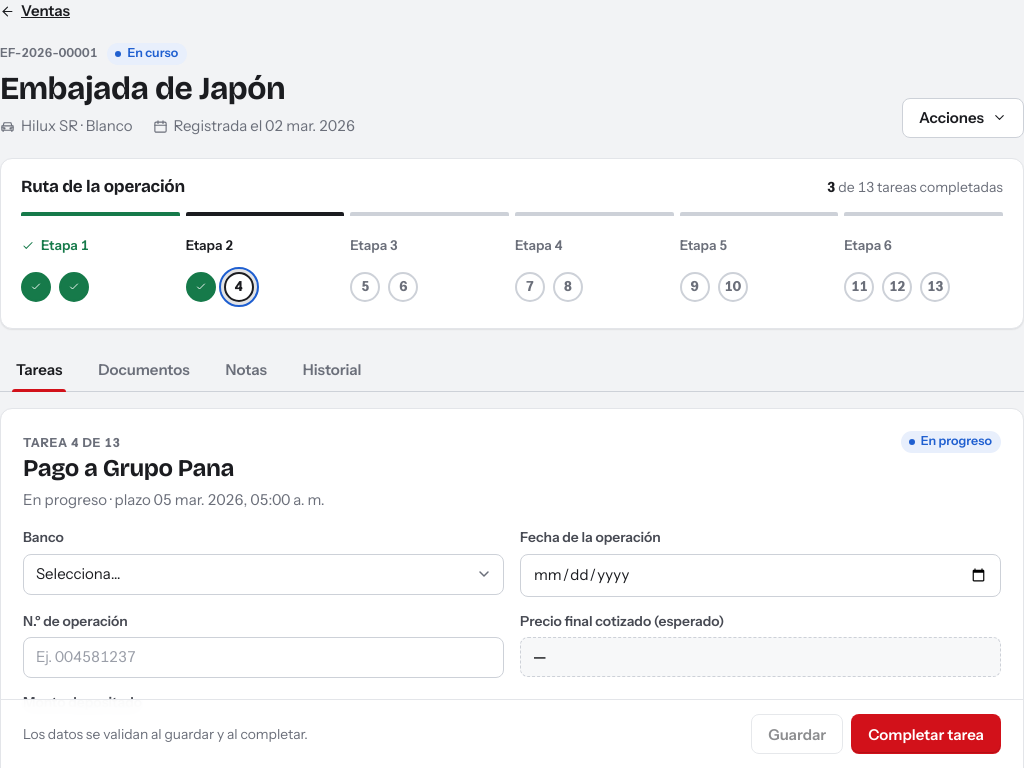
Scenario: the sale page › moves between tasks from the route, keeping the choice in the address
This screenshot has width=1024, height=768.
Expected: the heading "Pago a Grupo Pana" is shown, [23,454,234,482]
Click the button named "Tarea 2:". click: click(74, 287)
box: [59,272,89,302]
(page scrolled)
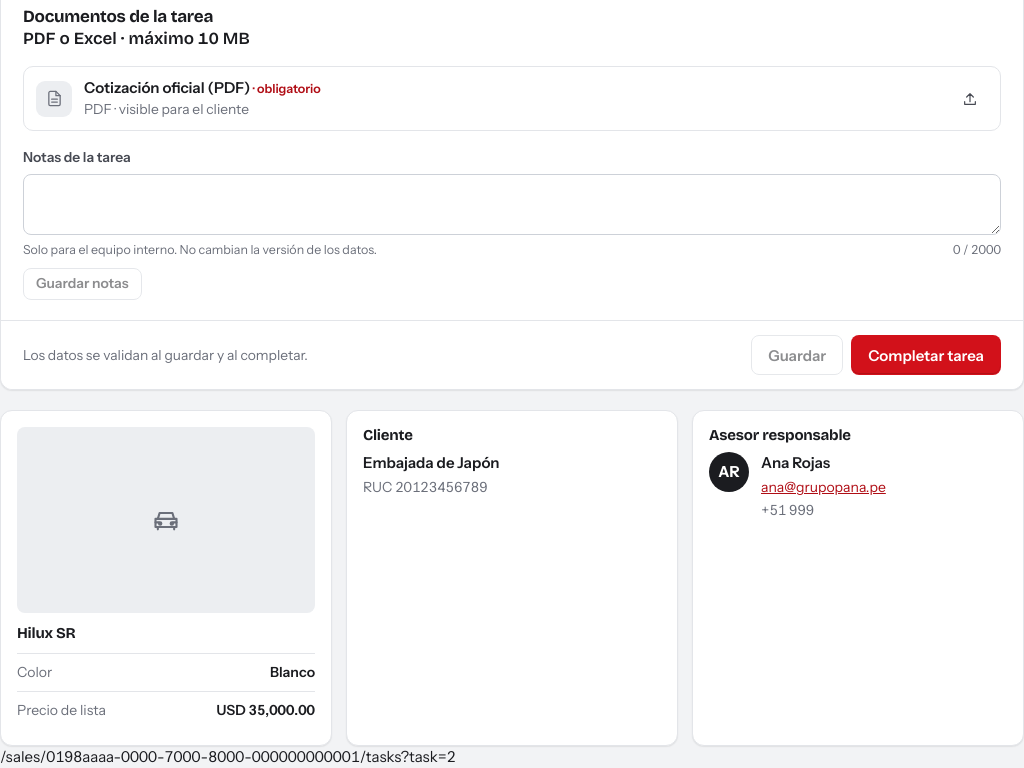
Result: the text with test id "where" shows "task=2" at [0,747,456,766]
